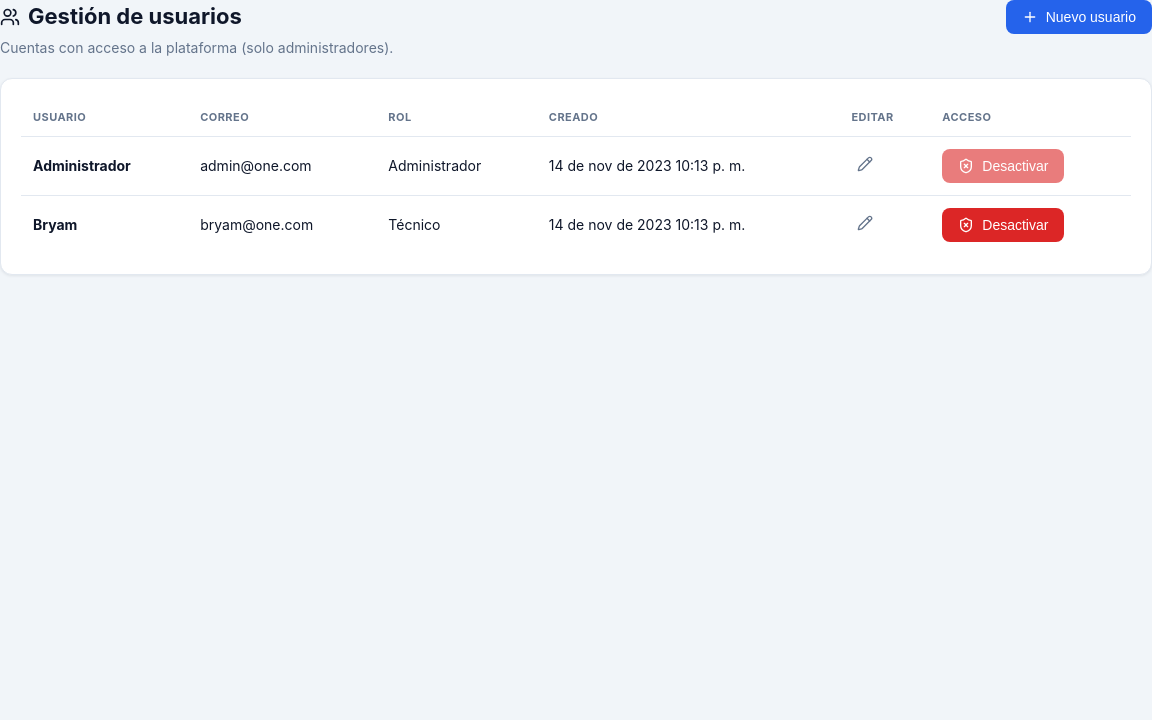
Test: Usuarios › edita un usuario (nombre, email y contraseña) desde el modal
Click the button named "editar bryam" at (866, 224), box [852, 209, 880, 240]
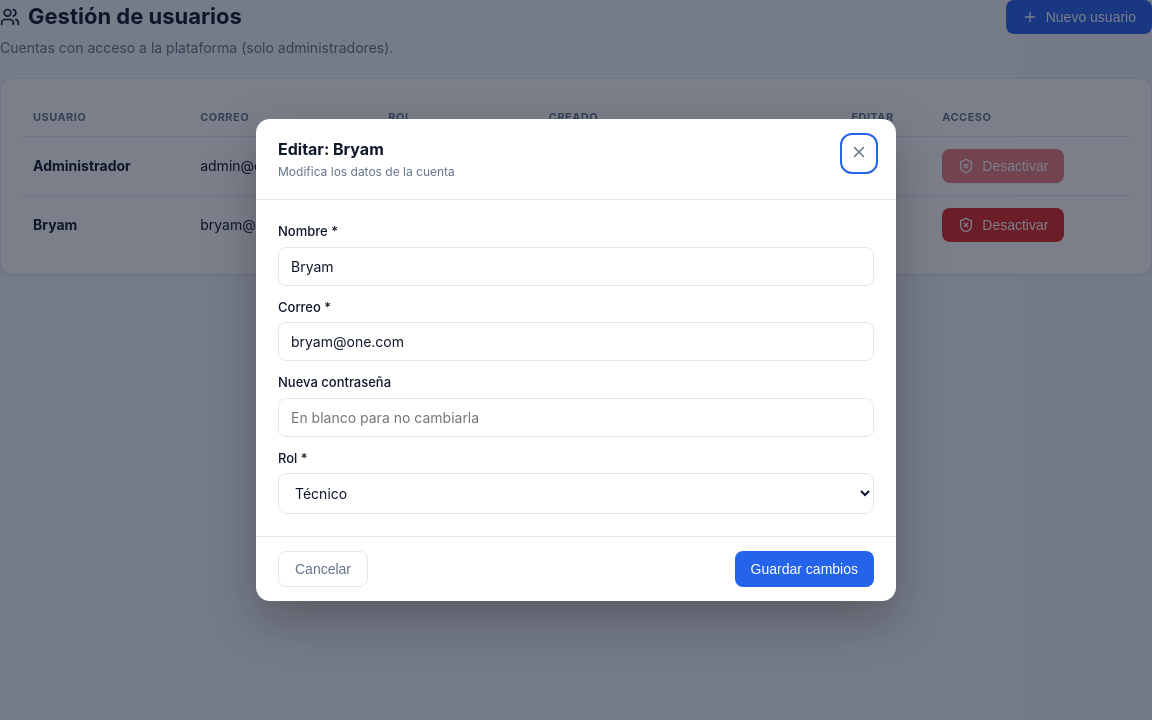
Replace the text in the field labelled "Nombre *" with "Bryam G." at (576, 266), box [278, 246, 874, 286]
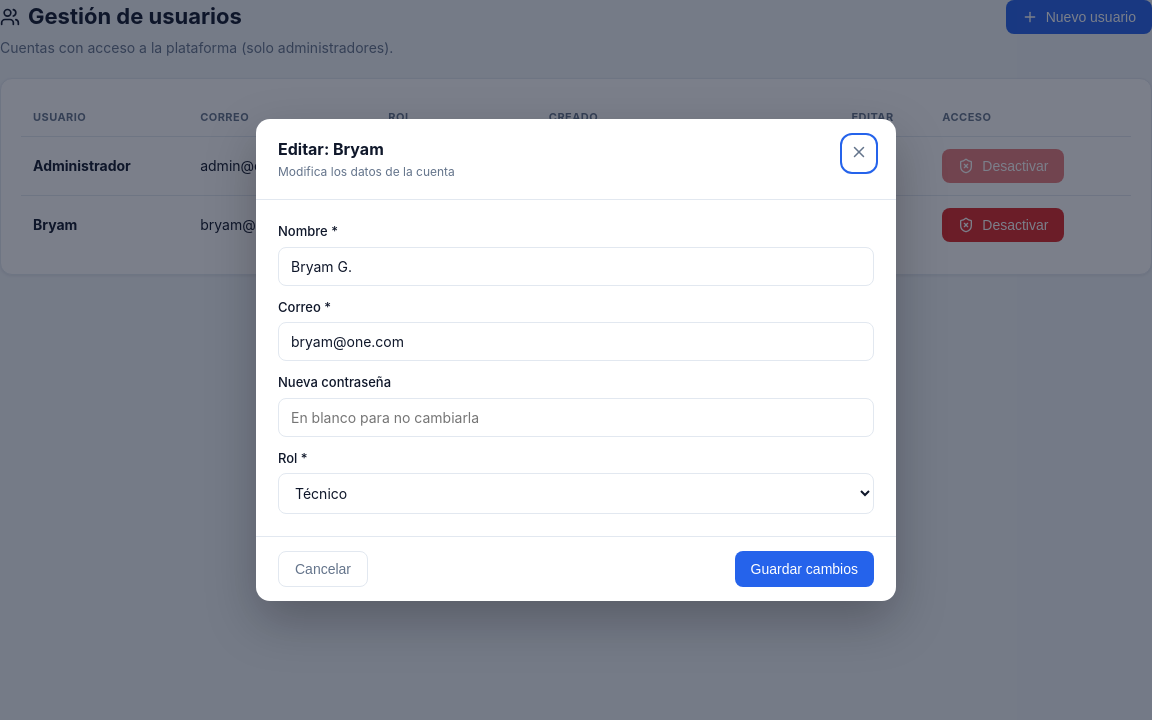
Replace the text in the field labelled "Correo *" with "bryam2@one.com" at (576, 342), box [278, 322, 874, 361]
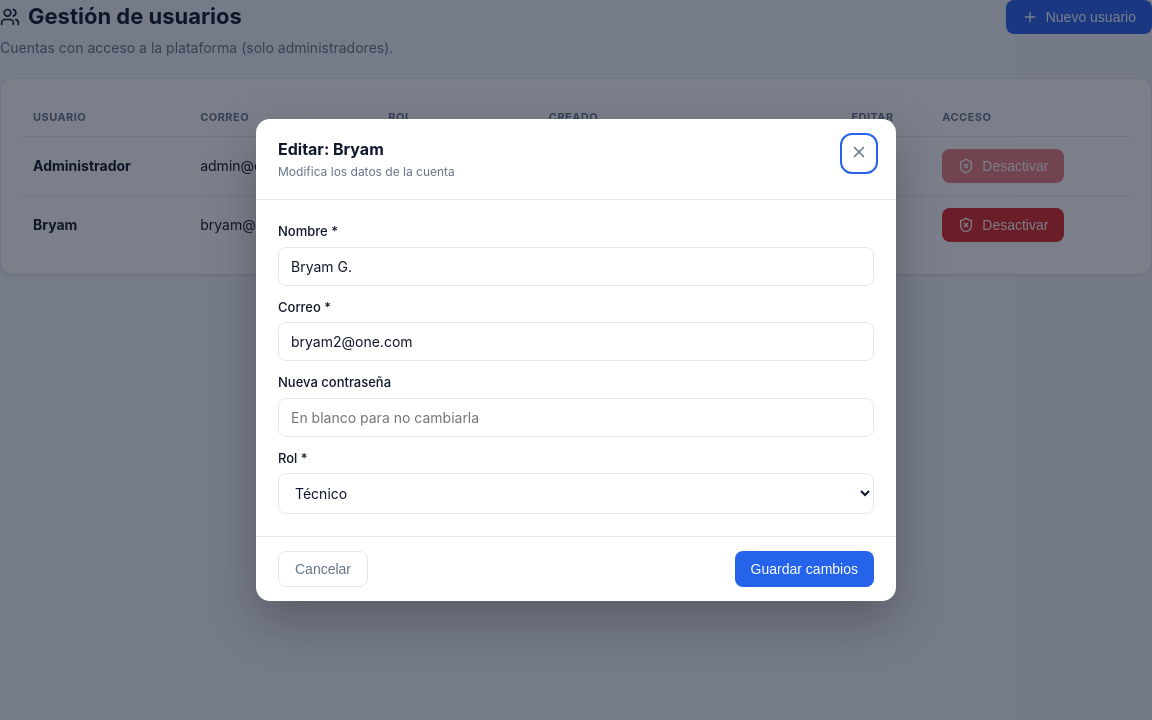
Type "nuevaClave1" into the password field labelled "Nueva contraseña" at (576, 417), box [278, 398, 874, 436]
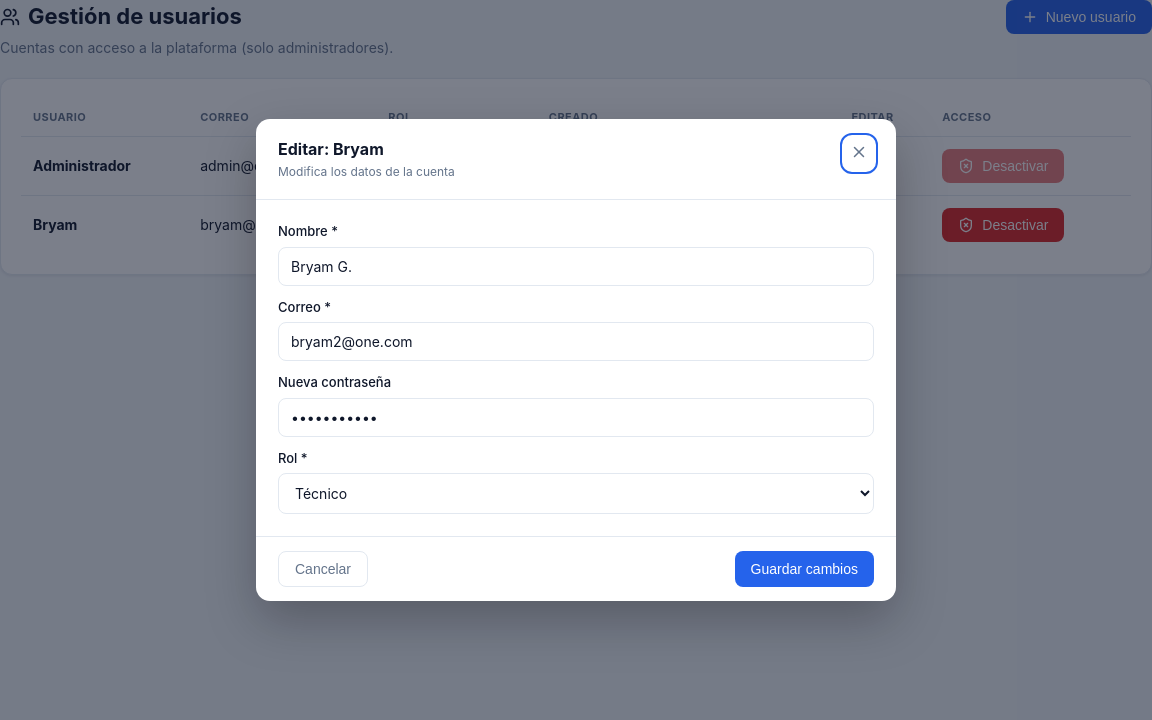
Click the button "Guardar cambios" at (804, 569), box [735, 551, 874, 587]
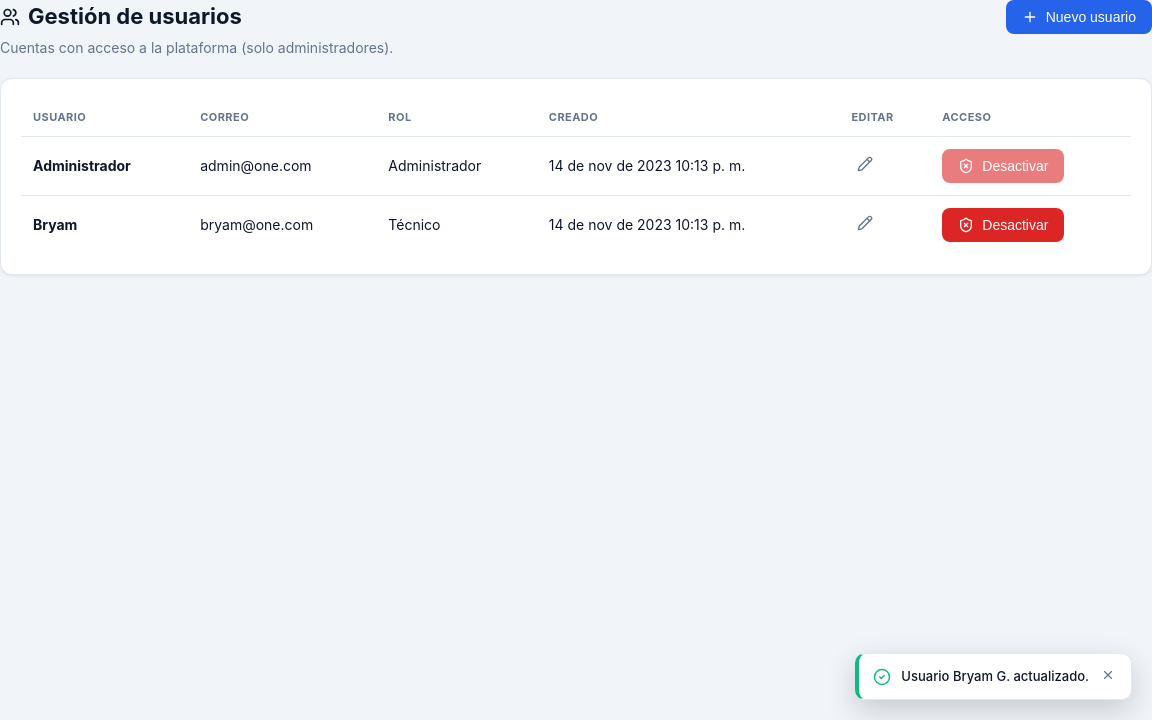
expect the text "Usuario Bryam G. actualizado." is shown: met, box [901, 667, 1089, 686]
